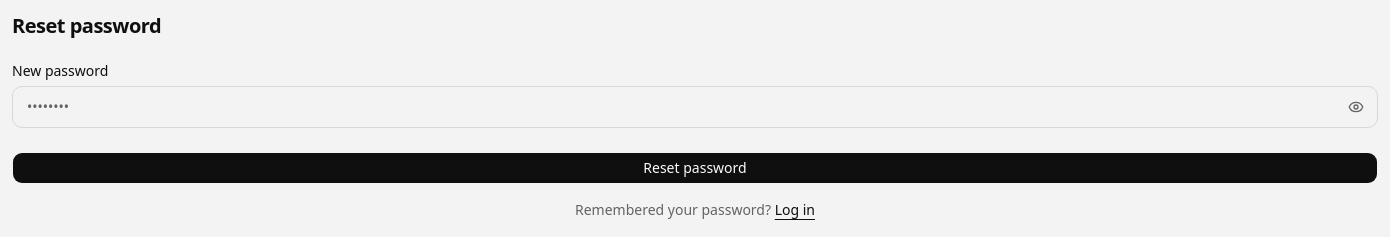
Scenario: ResetPasswordPage › displays invalid link view when submission returns a 410 error
Type "newPassword123" into the password field labelled "New password" at (695, 107), box [12,86,1378,128]
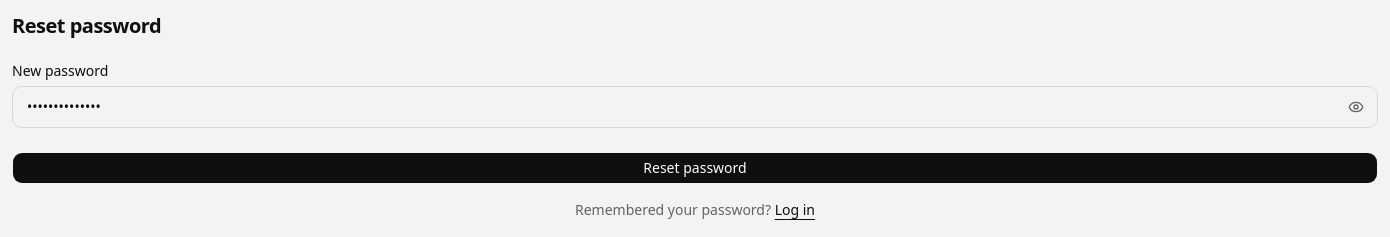
Click the button "Reset password" at (695, 168), box [12,152,1378,184]
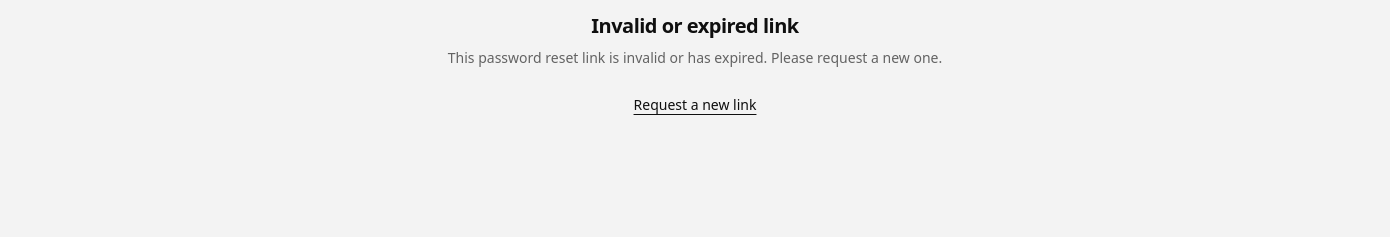
Result: the heading "Invalid or expired link" is shown at [591,12,799,39]
